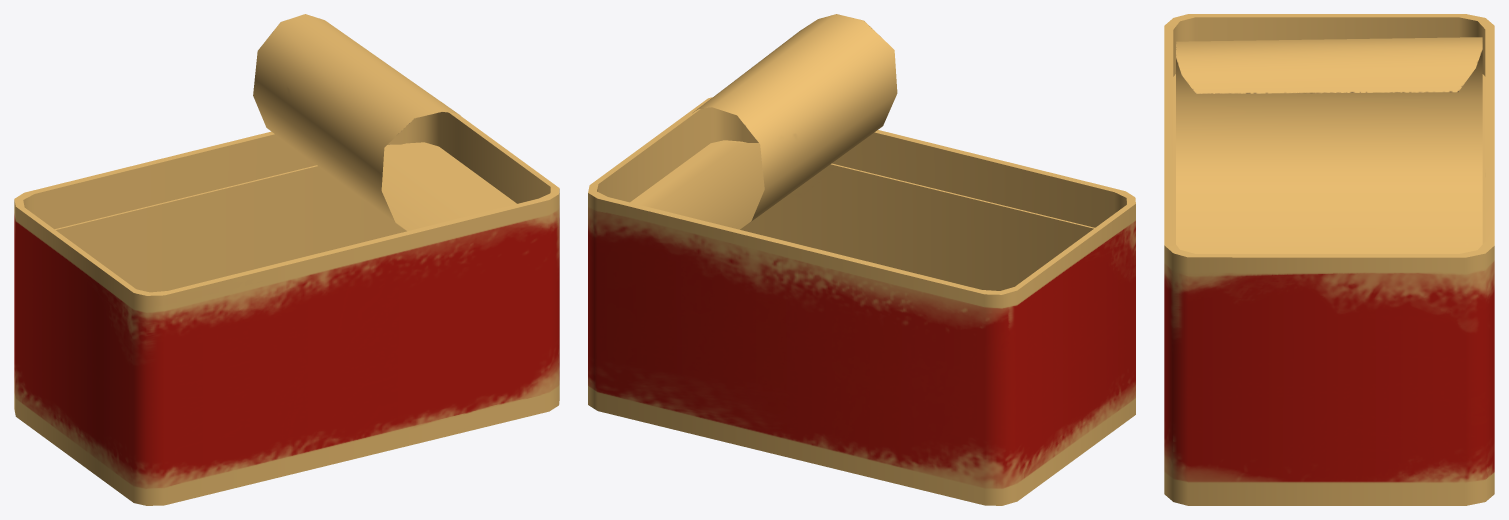
File: kaleng kornet 1.fbx
3 renders of one model, left to right at view 1: azimuth 30°, elevation 25°; view 2: azimuth 150°, elevation 25°; view 3: azimuth 270°, elevation 25°, orthographic. The views are drawn at different scales.
Visible parts, largest first — view 1: Cube.002; view 2: Cube.002; view 3: Cube.002.
Boxes of the visible parts, x1,y1,x2,y2 form: Cube.002: [14, 14, 559, 505]; Cube.002: [588, 14, 1135, 505]; Cube.002: [1164, 14, 1494, 505].
Bounding box in the file's own units: 22.78 × 16.62 × 13.
Materials: 1 (1 with a texture image).
